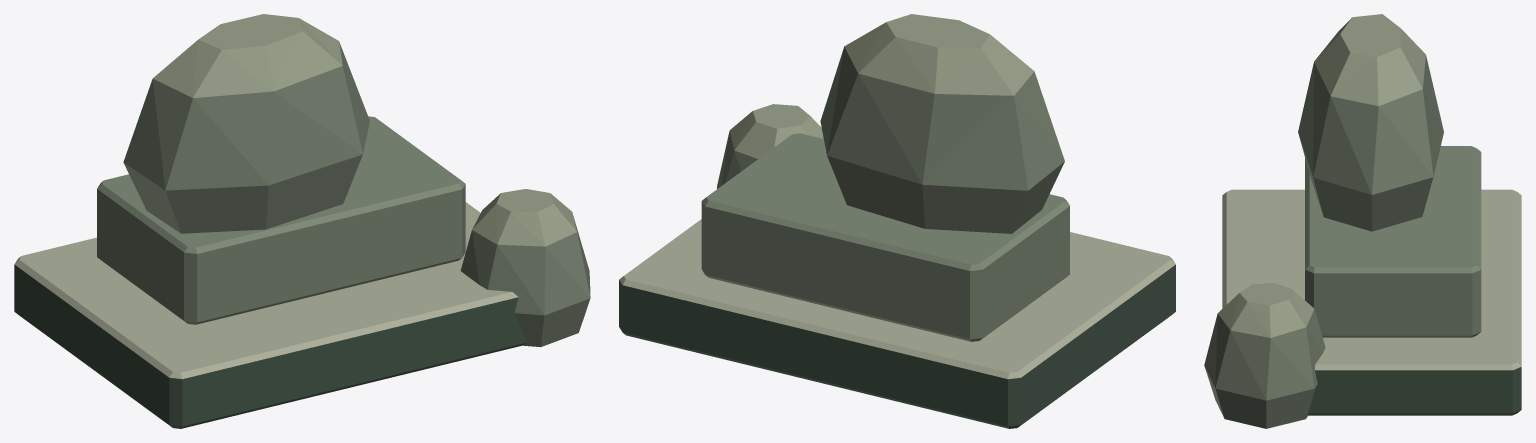
File: shrine-broken.glb
3 renders of one model, left to right at view 1: azimuth 30°, elevation 25°; view 2: azimuth 150°, elevation 25°; view 3: azimuth 270°, elevation 25°, orthographic. The views are drawn at different scales.
Parts seen in each view (by area): view 1: shrine-broken__body; view 2: shrine-broken__body; view 3: shrine-broken__body.
Boxes of the visible parts, x1,y1,x2,y2 form: shrine-broken__body: [14, 14, 590, 428]; shrine-broken__body: [619, 14, 1175, 428]; shrine-broken__body: [1204, 14, 1521, 428].
Bounding box in the file's own units: 1.31 × 0.86 × 0.9014.
